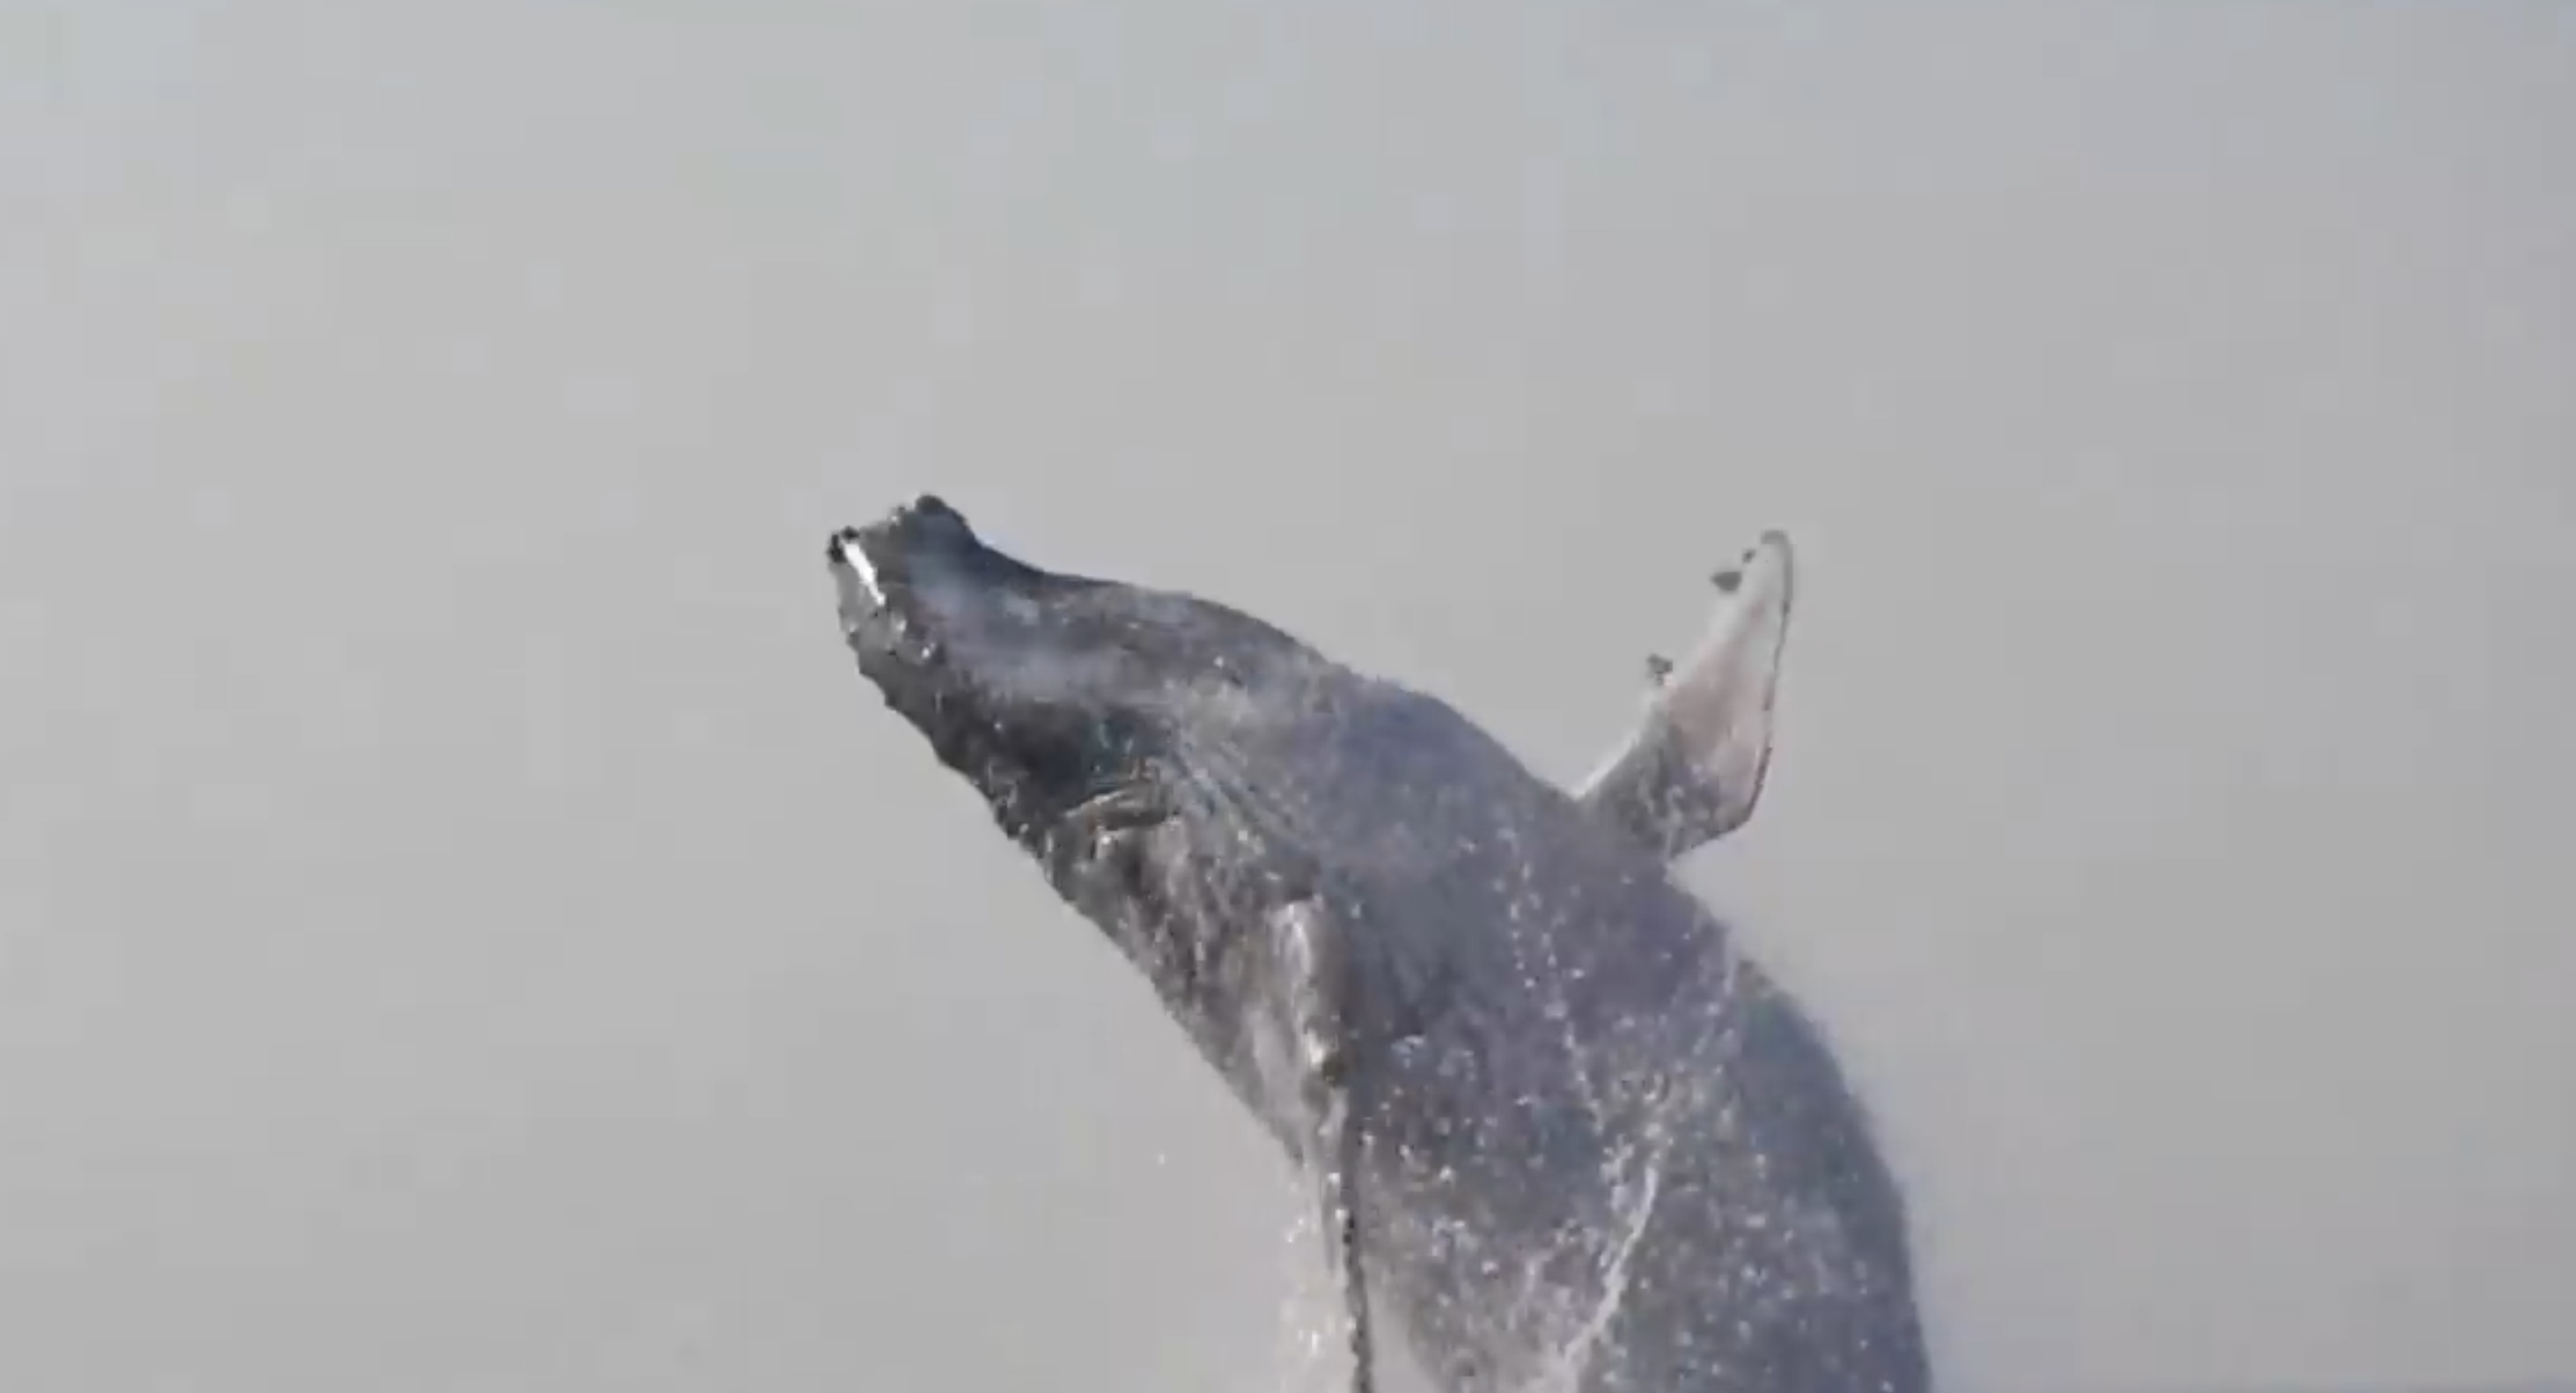humpback: (816, 494, 1928, 1374)
